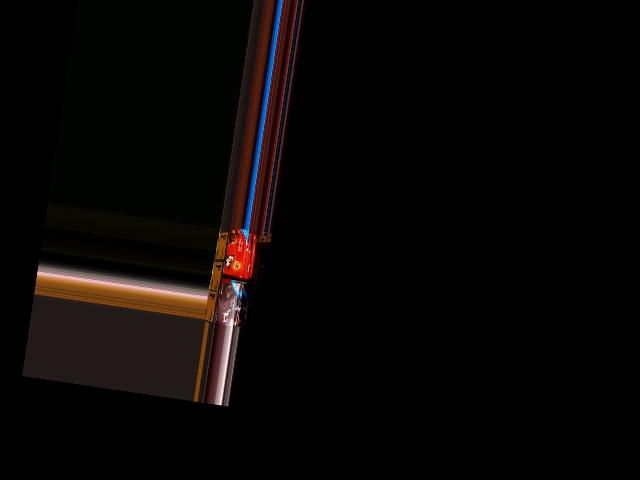chocolate: (210, 281, 242, 327)
